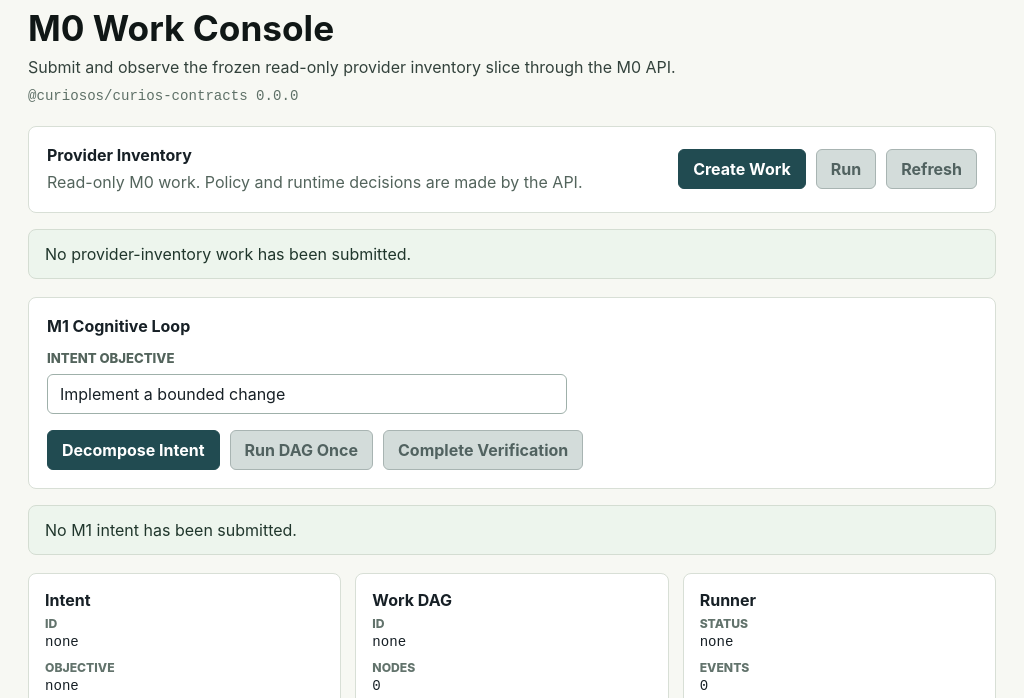
it: TASK-M1-014 web cognitive loop console › renders TERMINAL runner outcomes as M1 domain truth
Click the button "Decompose Intent" at point(133, 450), box x1=47 y1=430 x2=220 y2=470
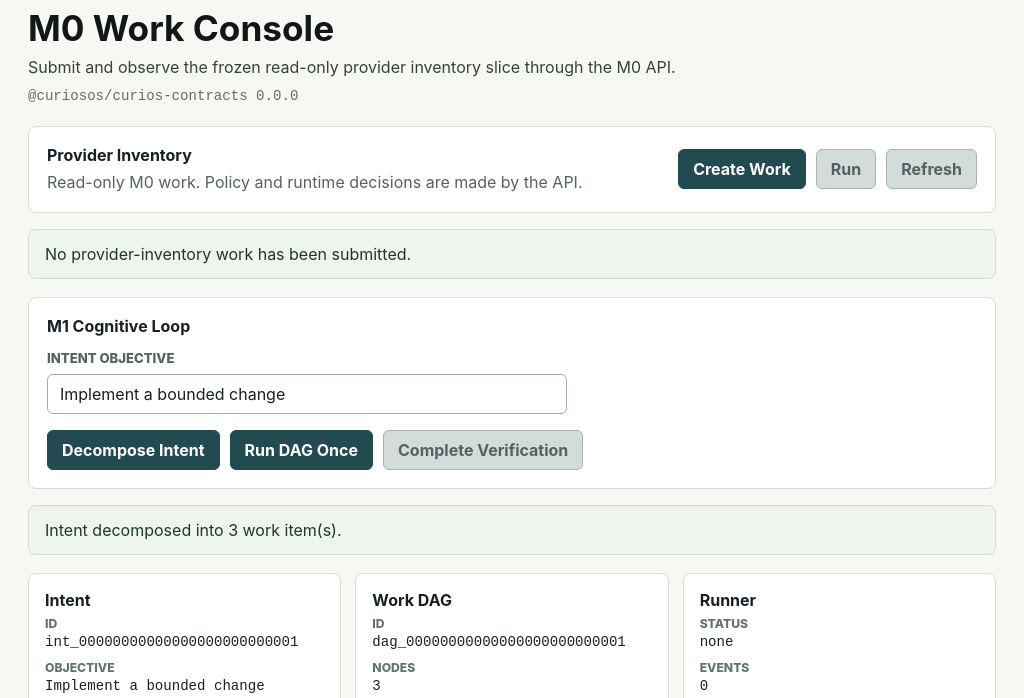
Click the button "Run DAG Once" at point(301, 450), box x1=230 y1=430 x2=373 y2=470
(page scrolled)
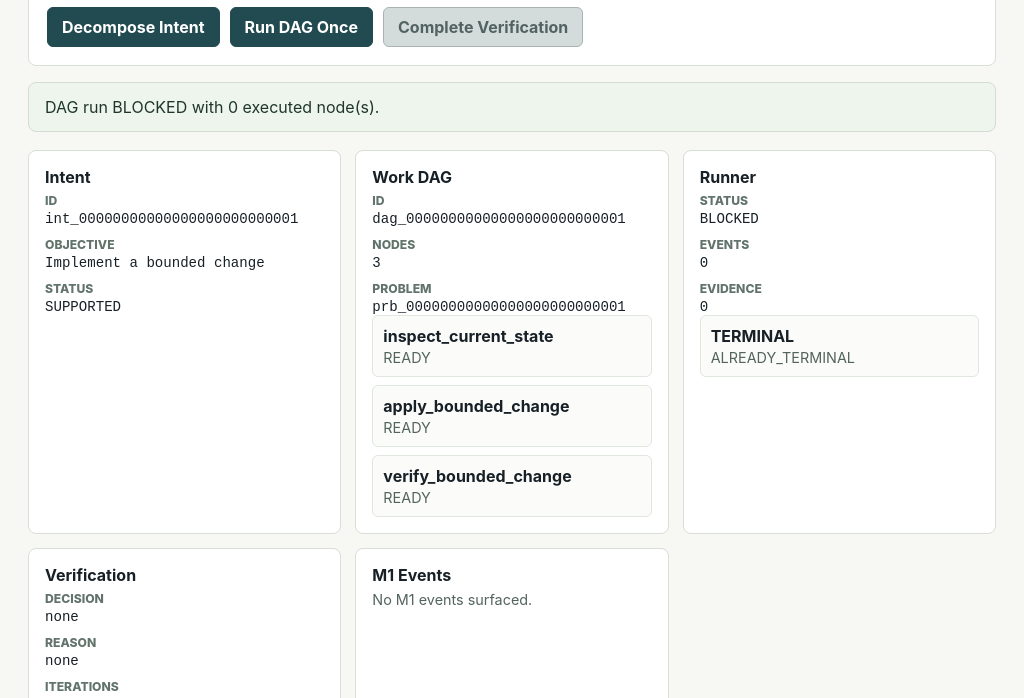
Check: the element that starts with "Runner" shows "TERMINAL", box x1=711 y1=326 x2=794 y2=346
Check: the element that starts with "Runner" shows "ALREADY_TERMINAL", box x1=711 y1=349 x2=855 y2=366
Check: the text "DAG run BLOCKED with 0 executed node(s)." is shown, box x1=28 y1=82 x2=996 y2=132
